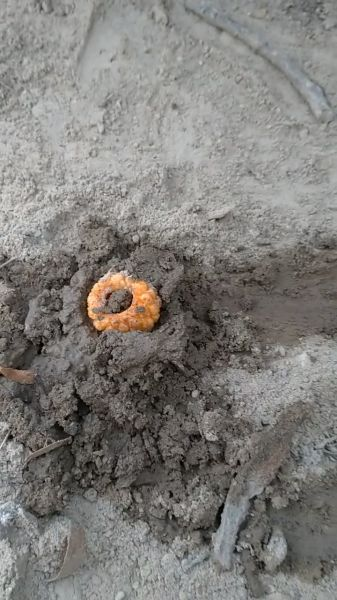eggs: (81, 266, 170, 338)
